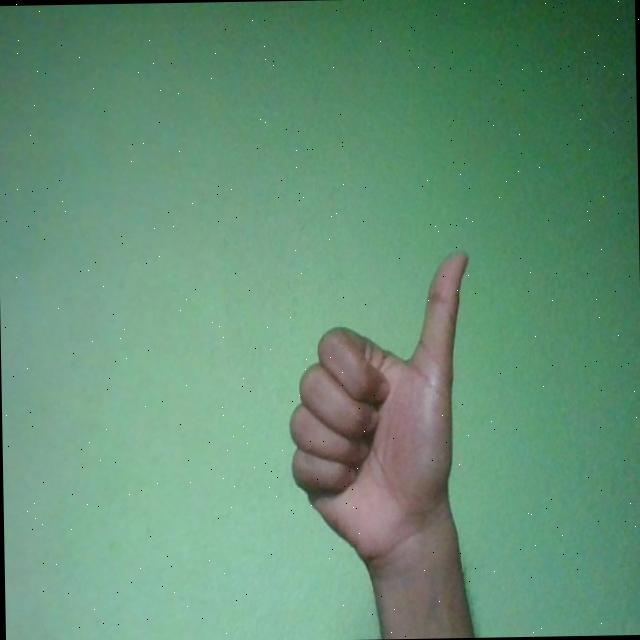Good Job: (286, 250, 476, 570)
